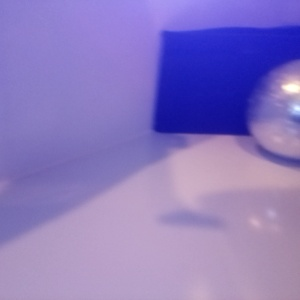alive_ball: (155, 21, 232, 101), (129, 24, 174, 73)
